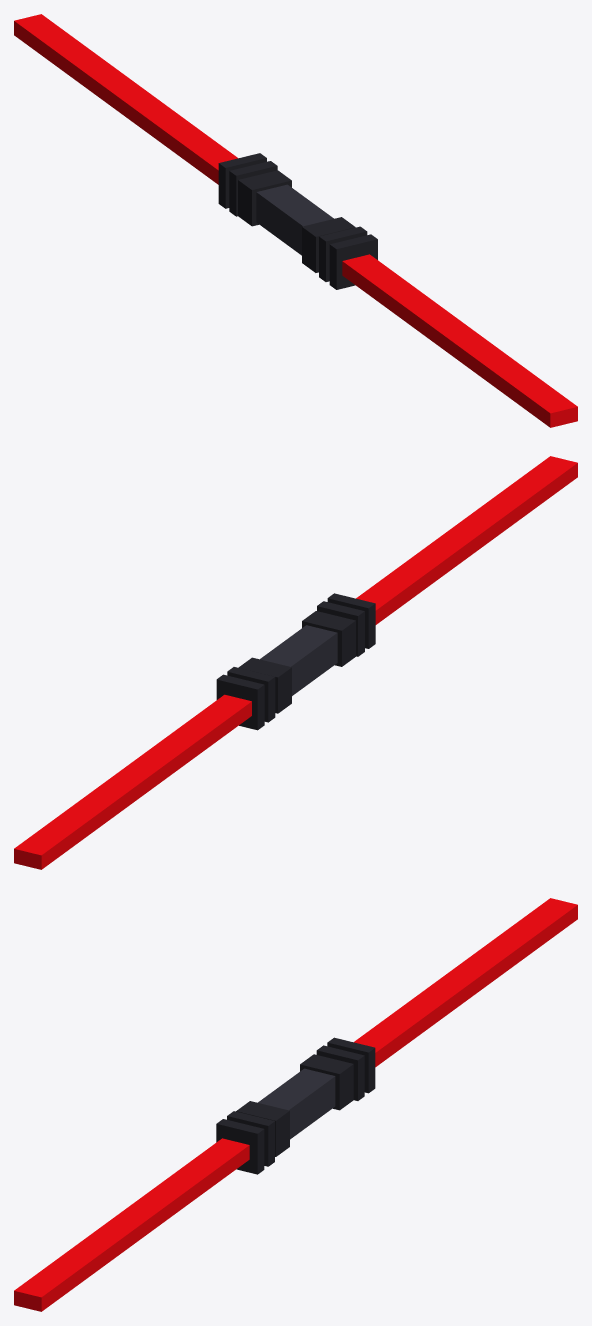
Rendered from Double Edge 01.FBX.
3 renders of one model, top to bottom at view 1: azimuth 30°, elevation 25°; view 2: azimuth 150°, elevation 25°; view 3: azimuth 330°, elevation 25°, orthographic.
Parts seen in each view (by area): view 1: Double Edge 01; view 2: Double Edge 01; view 3: Double Edge 01.
Part boxes in pixels (left/top/right/bottom): Double Edge 01: left=14, top=14, right=577, bottom=427; Double Edge 01: left=14, top=456, right=577, bottom=869; Double Edge 01: left=14, top=898, right=577, bottom=1311.
Bounding box in the file's own units: 6.19 × 5.77 × 137.
